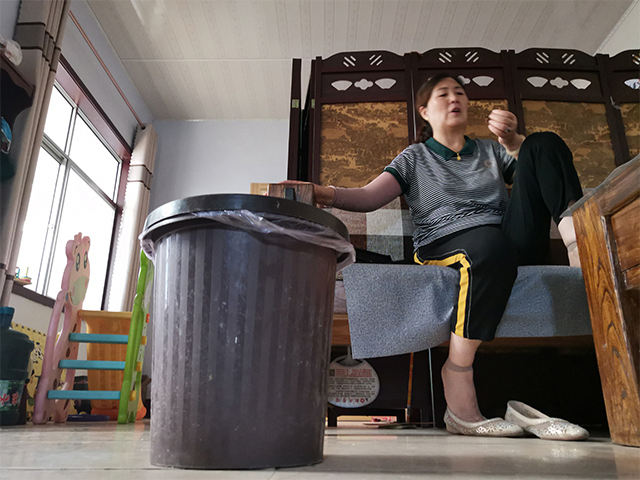trashcan: (135, 191, 351, 474)
